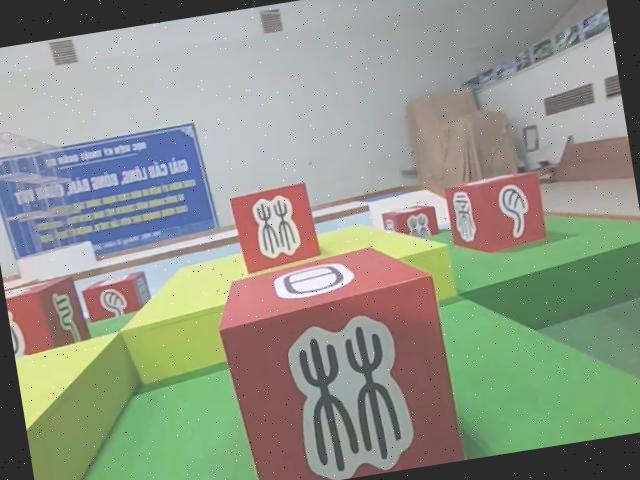R2 Fake: (210, 237, 470, 480), (441, 168, 551, 260), (228, 181, 327, 280), (3, 267, 95, 364), (79, 268, 156, 331), (383, 201, 444, 244)
